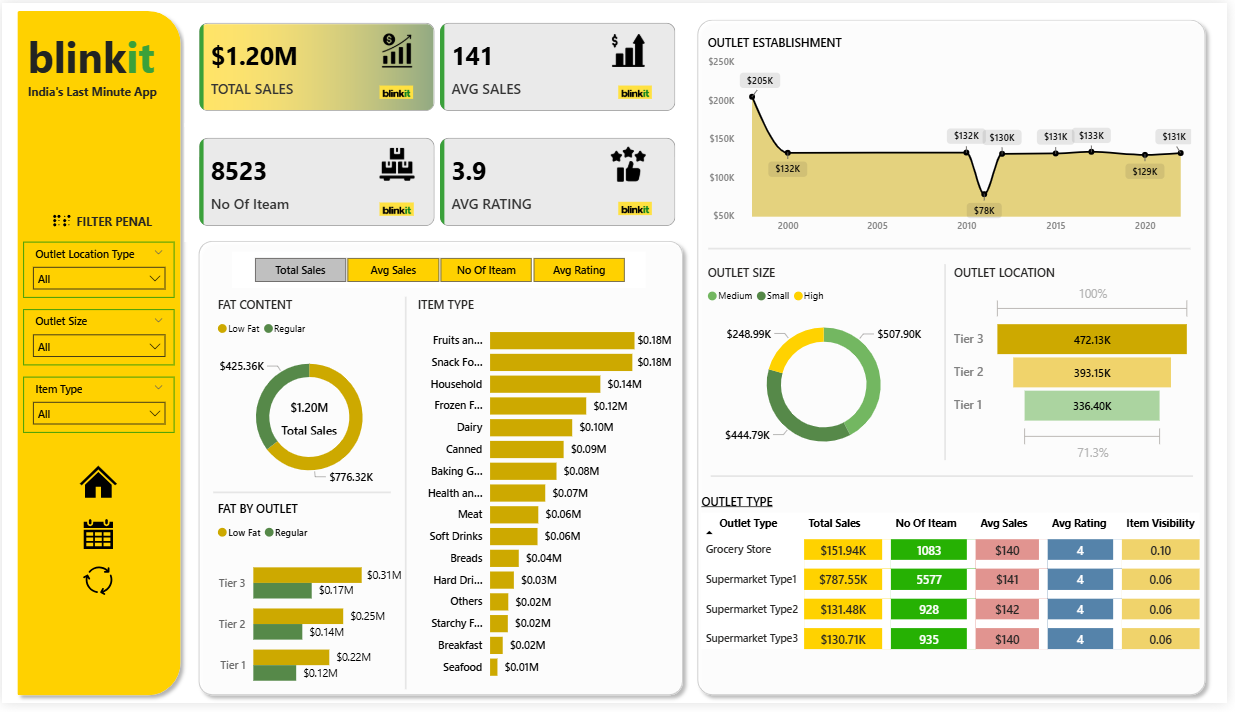

This screenshot's page, from the dashboard's own definition file:
{"tool":"powerbi","page":{"name":"Page 1","canvas":[1400,800],"ordinal":0},"visuals":[{"type":"shape","box":[8.2,0,204.5,800.3],"z":0},{"type":"textbox","box":[24.3,22.9,177.1,80],"z":1000},{"type":"textbox","box":[24.3,87.1,172.9,31.4],"z":2000},{"type":"cardVisual","fields":{"Data":["BlinkIT Grocery Data working.Total Sales","BlinkIT Grocery Data working.Avg Sales"]},"box":[215.7,18.6,570,135.7],"z":3000},{"type":"cardVisual","fields":{"Data":["BlinkIT Grocery Data working.Total Sales","BlinkIT Grocery Data working.Avg Sales"]},"box":[208.6,5.7,578.6,135.7],"z":4000},{"type":"cardVisual","fields":{"Data":["BlinkIT Grocery Data working.No Of Iteam","BlinkIT Grocery Data working.Avg Rating"]},"box":[208.6,137.1,578.6,135.7],"z":5000},{"type":"image","box":[424.3,34.3,54.3,40],"z":6000},{"type":"image","box":[688.6,34.3,54.3,40],"z":7000},{"type":"image","box":[424.3,165,54,40],"z":8000},{"type":"image","box":[688.6,164.3,54.3,40],"z":9000},{"type":"image","box":[431.3,219.4,38.8,31.3],"z":10000},{"type":"image","box":[704.3,220,38.6,30],"z":11000},{"type":"image","box":[704.3,87.1,38.6,30],"z":12000},{"type":"image","box":[431.4,87.1,38.6,30],"z":13000},{"type":"shape","box":[215.7,262.9,571.4,537.1],"z":14000},{"type":"donutChart","title":"FAT CONTENT","fields":{"Y":["BlinkIT Grocery Data working.Total Sales"],"Category":["BlinkIT Grocery Data working.Item Fat Content"]},"box":[241.4,335.7,220,230],"z":15000},{"type":"slicer","fields":{"Values":["Metrics.Metrics"]},"box":[262.9,284.3,472.9,41.4],"z":16000},{"type":"card","fields":{"Values":["BlinkIT Grocery Data working.Total Sales"]},"box":[304.3,450.4,93.8,48.3],"z":17000},{"type":"clusteredBarChart","title":"FAT BY OUTLET","fields":{"Y":["BlinkIT Grocery Data working.Total Sales"],"Category":["BlinkIT Grocery Data working.Outlet Location Type"],"Series":["BlinkIT Grocery Data working.Item Fat Content"]},"box":[241.4,568.6,220,231.4],"z":18000},{"type":"barChart","title":"ITEM TYPE","fields":{"Y":["BlinkIT Grocery Data working.Total Sales"],"Category":["BlinkIT Grocery Data working.Item Type"]},"box":[470,335.7,300,448.6],"z":19000},{"type":"shape","box":[241.4,541.4,202.9,35.7],"z":20000},{"type":"shape","box":[444.3,335.7,34.3,448.6],"z":21000},{"type":"shape","box":[785.7,10,598.6,790],"z":22000},{"type":"lineChart","title":"OUTLET ESTABLISHMENT","fields":{"Y":["BlinkIT Grocery Data working.Total Sales"],"Category":["BlinkIT Grocery Data working.Outlet Establishment Year"]},"box":[801.4,35.7,562.9,235.7],"z":23000},{"type":"donutChart","title":"OUTLET SIZE","fields":{"Y":["BlinkIT Grocery Data working.Total Sales"],"Category":["BlinkIT Grocery Data working.Outlet Size"]},"box":[801.4,299,275.7,230],"z":24000},{"type":"funnel","title":"OUTLET LOCATION","fields":{"Category":["BlinkIT Grocery Data working.Outlet Location Type"],"Y":["Sum(BlinkIT Grocery Data working.Sales)"]},"box":[1082.9,299,281.4,230],"z":25000},{"type":"shape","box":[807.1,262.9,551.4,35.7],"z":26000},{"type":"shape","box":[810,522.9,551.4,35.7],"z":27000},{"type":"shape","box":[1056.3,298.9,44.2,223.9],"z":28000},{"type":"pivotTable","title":"OUTLET TYPE","fields":{"Rows":["BlinkIT Grocery Data working.Outlet Type"],"Values":["BlinkIT Grocery Data working.Total Sales","BlinkIT Grocery Data working.No Of Iteam","BlinkIT Grocery Data working.Avg Sales","BlinkIT Grocery Data working.Avg Rating","Avg(BlinkIT Grocery Data working.Item Visibility)"]},"box":[794.3,560,582.9,207.1],"z":29000},{"type":"slicer","fields":{"Values":["BlinkIT Grocery Data working.Outlet Location Type"]},"box":[24.1,273.5,172.9,64.3],"z":30000},{"type":"slicer","fields":{"Values":["BlinkIT Grocery Data working.Outlet Size"]},"box":[24.1,349.9,172.9,64.3],"z":31000},{"type":"slicer","fields":{"Values":["BlinkIT Grocery Data working.Item Type"]},"box":[24.1,427.6,172.9,64.3],"z":32000},{"type":"textbox","box":[80.4,235.9,110.4,38.2],"z":33000},{"type":"image","box":[85.9,523.1,49.1,49.1],"z":34000},{"type":"image","box":[85.9,583.1,49.1,47.7],"z":35000},{"type":"image","box":[85.9,633.6,49.1,53.2],"z":36000},{"type":"image","box":[50.4,234.5,36.8,28.6],"z":36001}]}

Visuals, with their boxes in screenshot pixels (x1, y1, x2, y2), scaled from the page's 1400x800 canvas onto the 1235x712 screenshot:
shape: region(7, 0, 188, 711)
textbox: region(21, 20, 178, 92)
textbox: region(21, 78, 174, 105)
cardVisual - BlinkIT Grocery Data working.Total Sales x BlinkIT Grocery Data working.Avg Sales: region(190, 17, 693, 137)
cardVisual - BlinkIT Grocery Data working.Total Sales x BlinkIT Grocery Data working.Avg Sales: region(184, 5, 694, 126)
cardVisual - BlinkIT Grocery Data working.No Of Iteam x BlinkIT Grocery Data working.Avg Rating: region(184, 122, 694, 243)
image: region(374, 31, 422, 66)
image: region(607, 31, 655, 66)
image: region(374, 147, 422, 182)
image: region(607, 146, 655, 182)
image: region(380, 195, 415, 223)
image: region(621, 196, 655, 222)
image: region(621, 78, 655, 104)
image: region(381, 78, 415, 104)
shape: region(190, 234, 694, 711)
"FAT CONTENT" donutChart: region(213, 299, 407, 503)
slicer - Metrics.Metrics: region(232, 253, 649, 290)
card - BlinkIT Grocery Data working.Total Sales: region(268, 401, 351, 444)
"FAT BY OUTLET" clusteredBarChart: region(213, 506, 407, 711)
"ITEM TYPE" barChart: region(415, 299, 679, 698)
shape: region(213, 482, 392, 514)
shape: region(392, 299, 422, 698)
shape: region(693, 9, 1221, 711)
"OUTLET ESTABLISHMENT" lineChart: region(707, 32, 1204, 242)
"OUTLET SIZE" donutChart: region(707, 266, 950, 471)
"OUTLET LOCATION" funnel: region(955, 266, 1204, 471)
shape: region(712, 234, 1198, 266)
shape: region(715, 465, 1201, 497)
shape: region(932, 266, 971, 465)
"OUTLET TYPE" pivotTable: region(701, 498, 1215, 683)
slicer - BlinkIT Grocery Data working.Outlet Location Type: region(21, 243, 174, 301)
slicer - BlinkIT Grocery Data working.Outlet Size: region(21, 311, 174, 369)
slicer - BlinkIT Grocery Data working.Item Type: region(21, 381, 174, 438)
textbox: region(71, 210, 168, 244)
image: region(76, 466, 119, 509)
image: region(76, 519, 119, 561)
image: region(76, 564, 119, 611)
image: region(44, 209, 77, 234)
